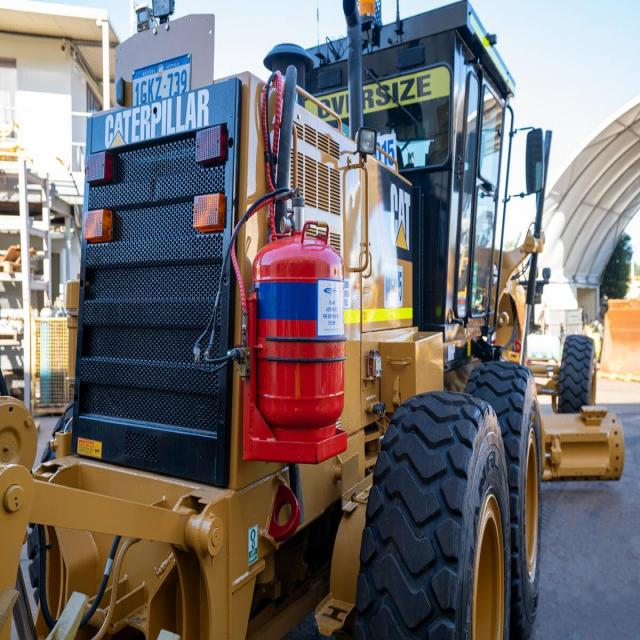Grader: (9, 9, 640, 637)
